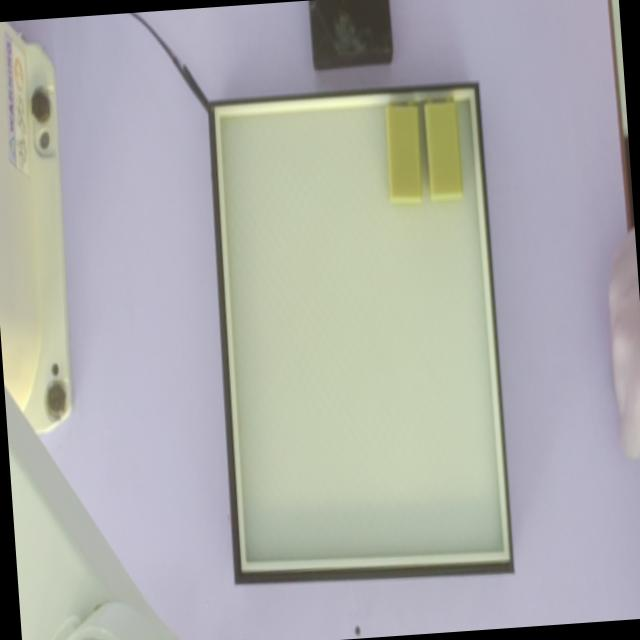bateria: (424, 95, 464, 197), (385, 99, 424, 202)
mesa: (207, 81, 515, 584)
